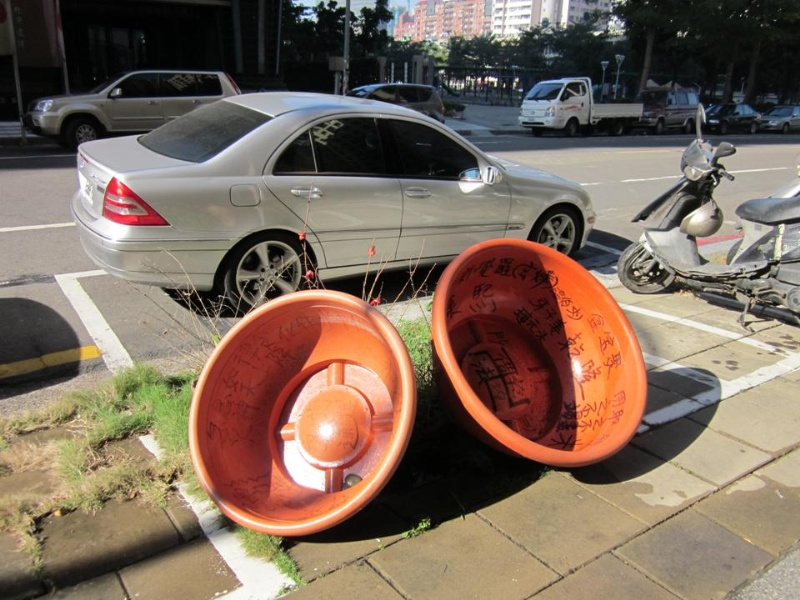bowl: (190, 285, 419, 540), (427, 227, 654, 472)
